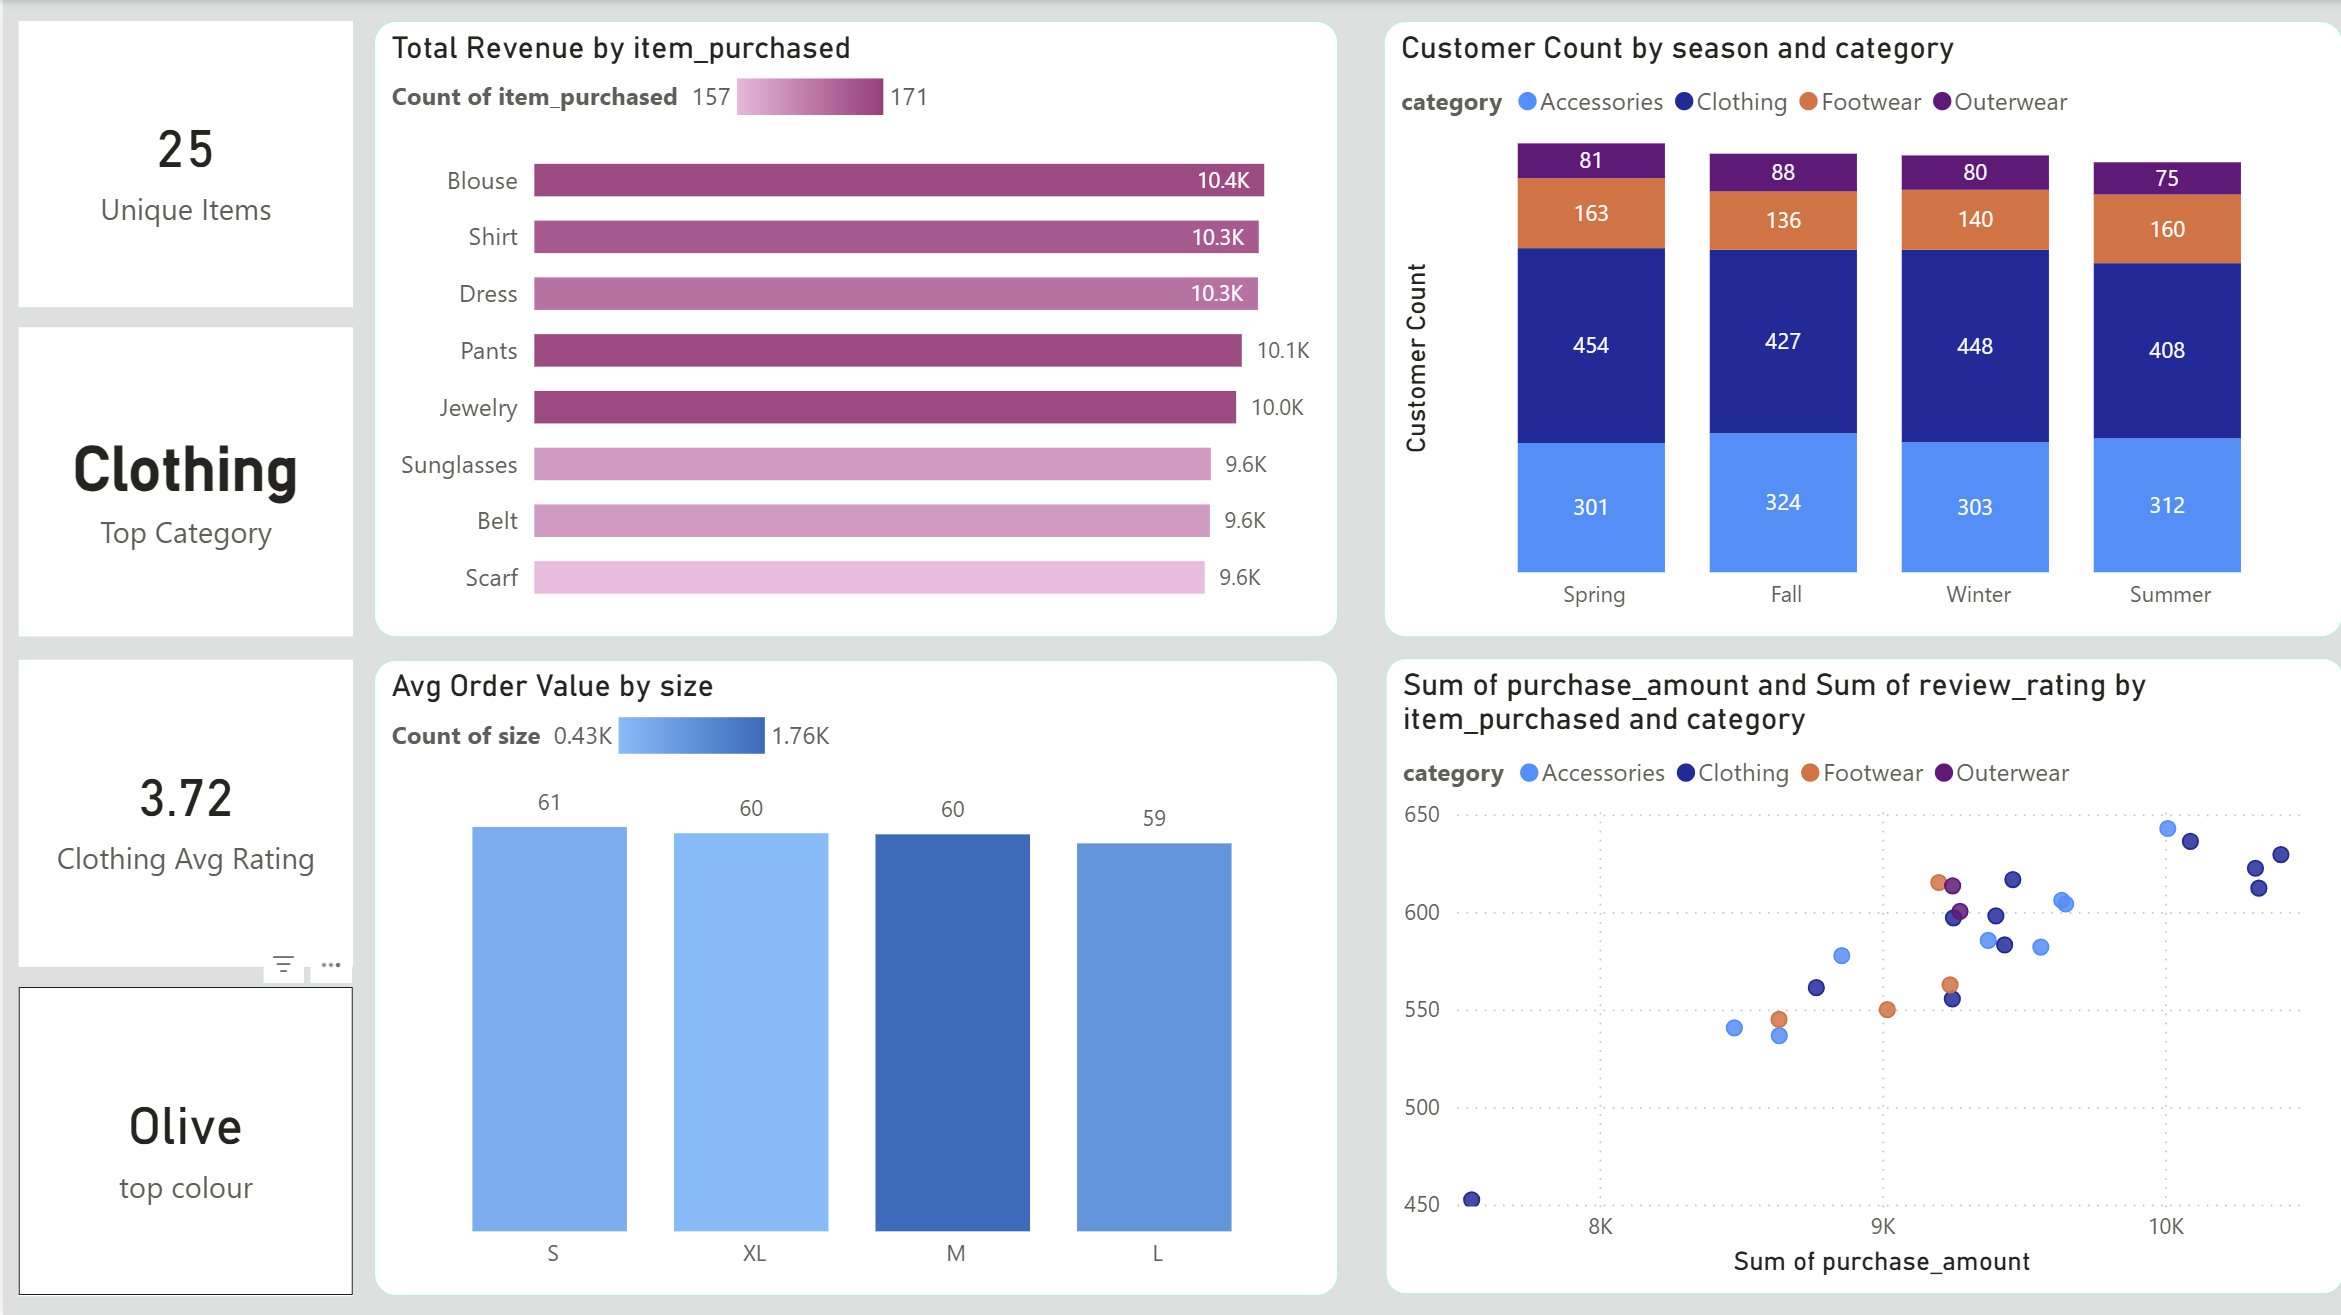

The dashboard page shown, as its layout file describes it:
{"tool":"powerbi","page":{"name":"Product","canvas":[1280,720],"ordinal":2},"visuals":[{"type":"card","fields":{"Values":["Count(CustomerData.item_purchased)"]},"box":[8.6,11.1,182.7,156.8],"z":0},{"type":"card","fields":{"Values":["Min(CustomerData.category)"]},"box":[8.6,179,182.7,169.1],"z":1000},{"type":"card","fields":{"Values":["Avg(CustomerData.review_rating)"]},"box":[8.6,360.5,182.7,167.9],"z":2000},{"type":"card","fields":{"Values":["Min(CustomerData.color)"]},"box":[8.6,539.5,182.7,169.1],"z":3000},{"type":"clusteredBarChart","fields":{"Category":["CustomerData.item_purchased"],"Y":["Table.Total Revenue"]},"box":[202.5,11.1,527.2,337],"z":4000},{"type":"columnChart","fields":{"Category":["CustomerData.season"],"Y":["Table.Customer Count"],"Series":["CustomerData.category"]},"box":[755.6,11.1,524.7,337],"z":5000},{"type":"clusteredColumnChart","fields":{"Category":["CustomerData.size"],"Y":["Table.Avg Order Value"]},"box":[202.5,360.5,527.2,348.1],"z":6000},{"type":"scatterChart","fields":{"X":["Sum(CustomerData.purchase_amount)"],"Y":["Sum(CustomerData.review_rating)"],"Category":["CustomerData.item_purchased"],"Series":["CustomerData.category"]},"box":[756,360,524,348],"z":7000}]}

Visuals, with their boxes in screenshot pixels (x1, y1, x2, y2), scaled from the page's 1280x720 canvas onto the 2341x1315 screenshot:
card - Count(CustomerData.item_purchased): rect(16, 20, 350, 307)
card - Min(CustomerData.category): rect(16, 327, 350, 636)
card - Avg(CustomerData.review_rating): rect(16, 658, 350, 965)
card - Min(CustomerData.color): rect(16, 985, 350, 1294)
clusteredBarChart - CustomerData.item_purchased x Table.Total Revenue: rect(370, 20, 1335, 636)
columnChart - CustomerData.season x Table.Customer Count: rect(1382, 20, 2340, 636)
clusteredColumnChart - CustomerData.size x Table.Avg Order Value: rect(370, 658, 1335, 1294)
scatterChart - Sum(CustomerData.purchase_amount) x Sum(CustomerData.review_rating): rect(1383, 658, 2340, 1293)
